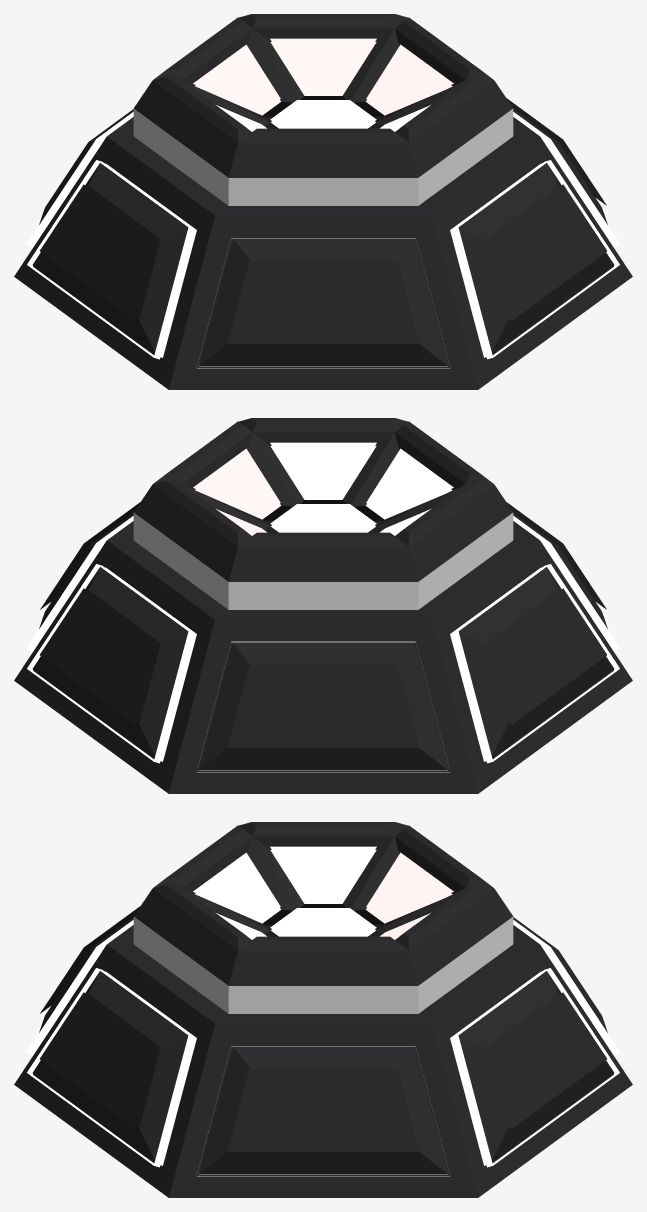
File: bypass8.fbx
3 renders of one model, top to bottom at view 1: azimuth 30°, elevation 25°; view 2: azimuth 150°, elevation 25°; view 3: azimuth 270°, elevation 25°, orthographic.
Parts seen in each view (by area): view 1: SciFI Props 2, neon001, Object001; view 2: SciFI Props 2, neon001, Object001; view 3: SciFI Props 2, neon001, Object001.
Boxes of the visible parts, <box> form: SciFI Props 2: <box>14,14,632,389</box>; neon001: <box>27,98,619,368</box>; Object001: <box>193,38,453,131</box>; SciFI Props 2: <box>14,418,632,793</box>; neon001: <box>27,502,619,772</box>; Object001: <box>193,442,453,535</box>; SciFI Props 2: <box>14,822,632,1197</box>; neon001: <box>27,906,619,1176</box>; Object001: <box>193,846,453,939</box>.
Size of the model in its own units: 139 by 57.09 by 157.
